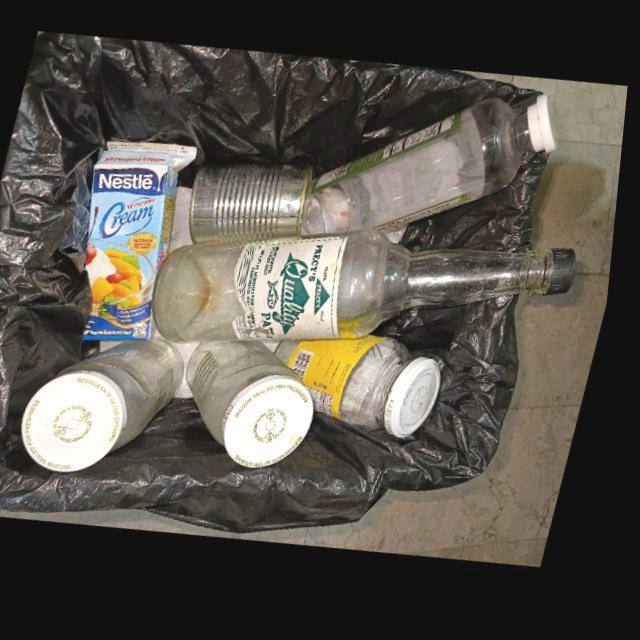aluminum: (194, 167, 316, 248)
glass_bottle: (155, 235, 582, 345), (29, 340, 192, 475), (283, 340, 449, 445), (193, 344, 324, 473)
plastic_bottle: (306, 101, 562, 239)
